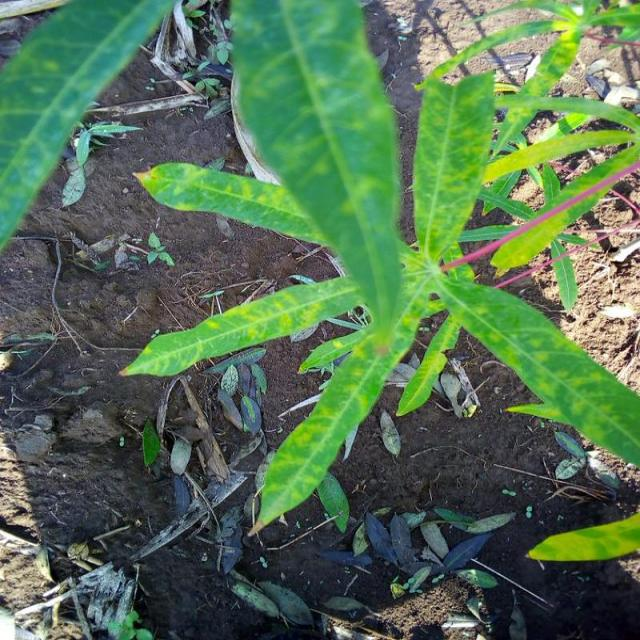cassava leaf: (120, 0, 638, 539), (0, 0, 174, 255)
